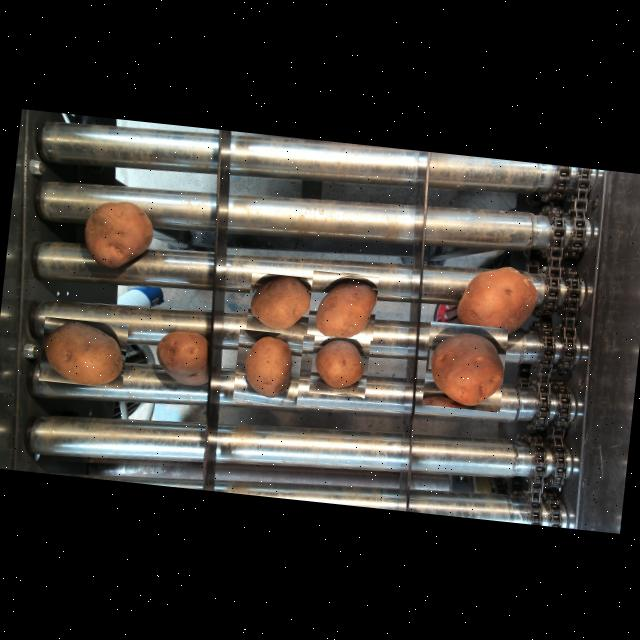Potato: (451, 258, 545, 344), (421, 319, 507, 412), (74, 192, 162, 277), (38, 315, 128, 388), (232, 328, 302, 406), (306, 268, 378, 339), (244, 270, 314, 334), (146, 323, 214, 388), (308, 329, 370, 397)
